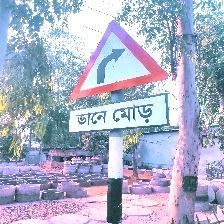Right-turn: (68, 19, 171, 136)
